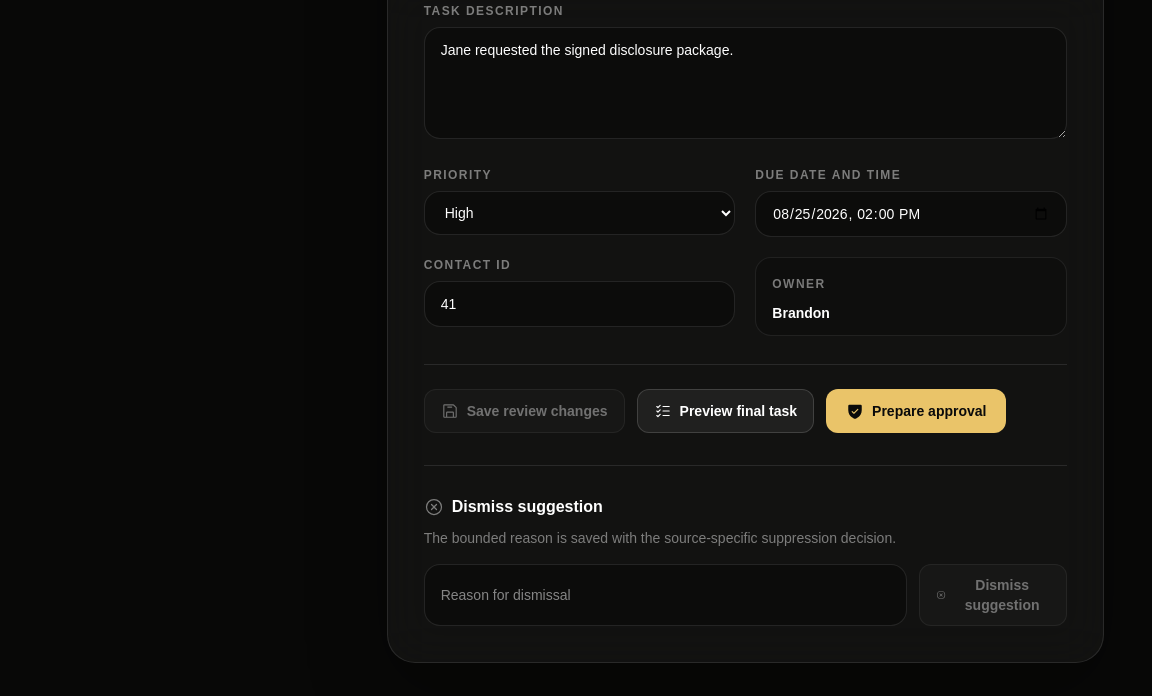
Test: TaskSuggestionsWorkspace › shows an exact preview, prepares separately, and creates only on the later Approve click
(page scrolled)
Click the button "Preview final task" at (725, 411), box [637,389,814,433]
(page scrolled)
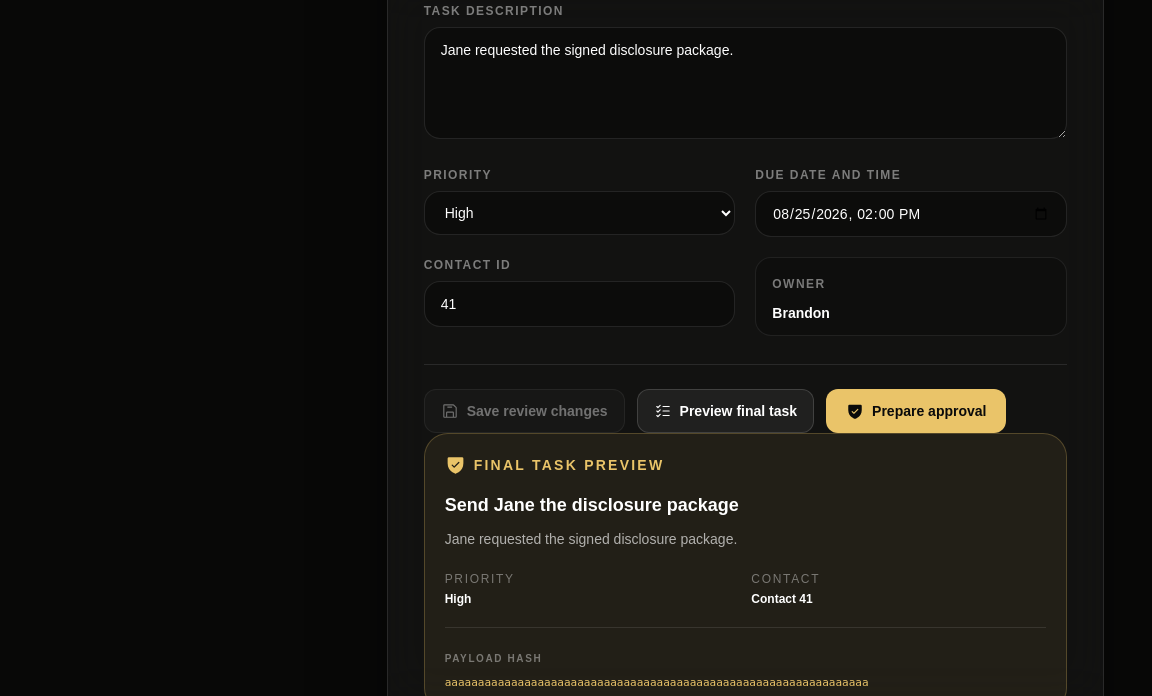
Expected: the heading "Final task preview" is shown, [474,455,664,475]
Click the button "Prepare approval" at (916, 411), box [826,389,1006,433]
(page scrolled)
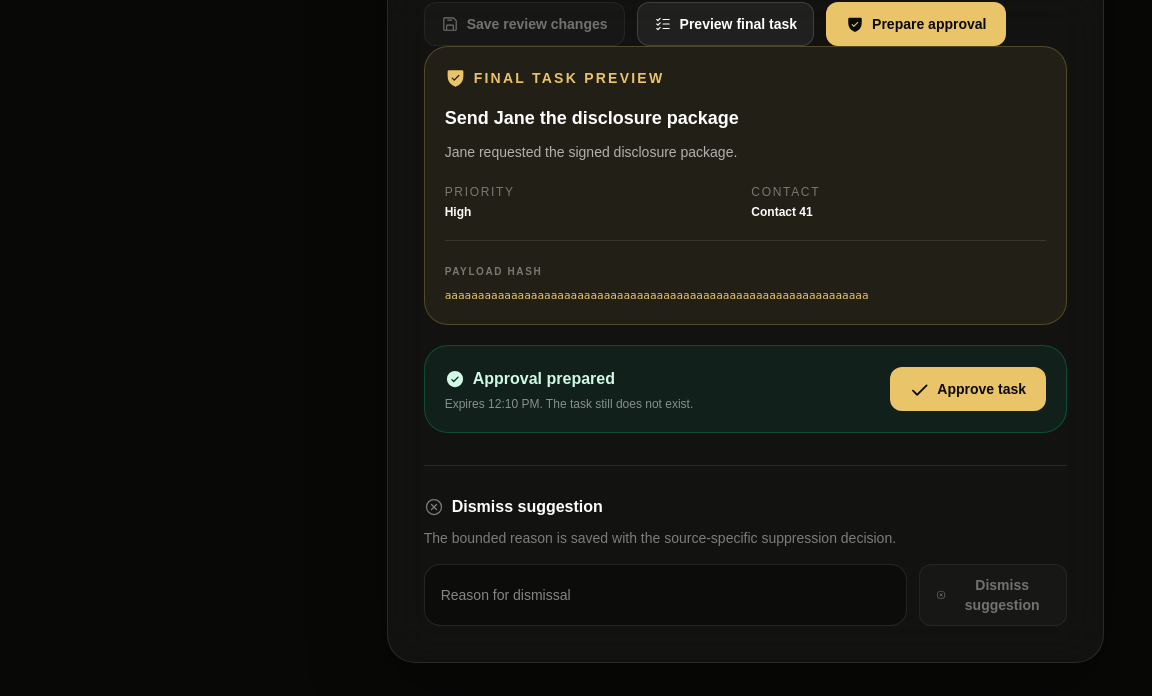
Expected: the text "Approval prepared" is shown, [445,369,615,389]
Click the button "Approve task" at (968, 389), box [890,367,1046,411]
(page scrolled)
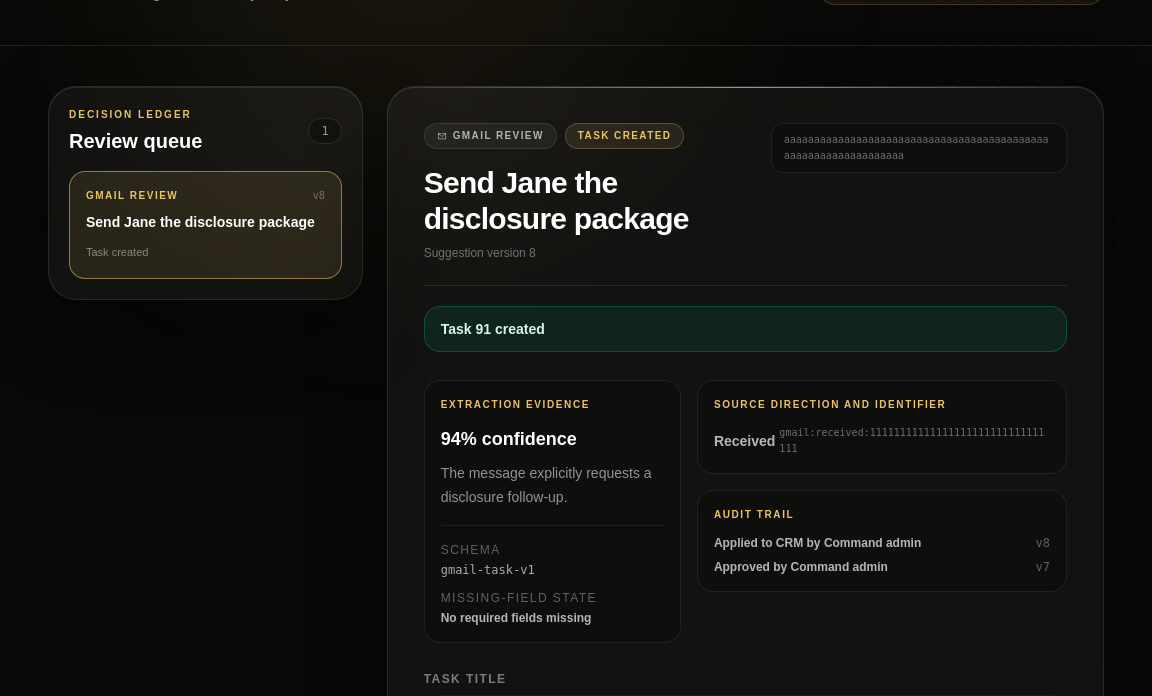
Expected: the text "Applied to CRM by Command admin" is shown, [714,535,921,551]
Expected: the text "Approved by Command admin" is shown, [714,559,888,575]
